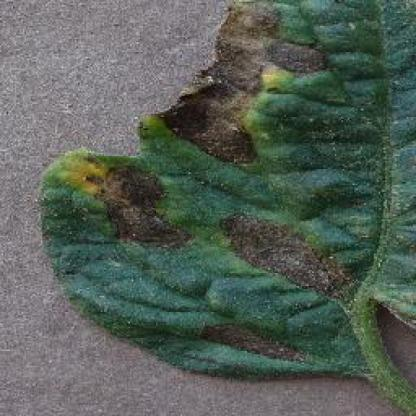Tomato_Blight: (37, 0, 416, 380)
